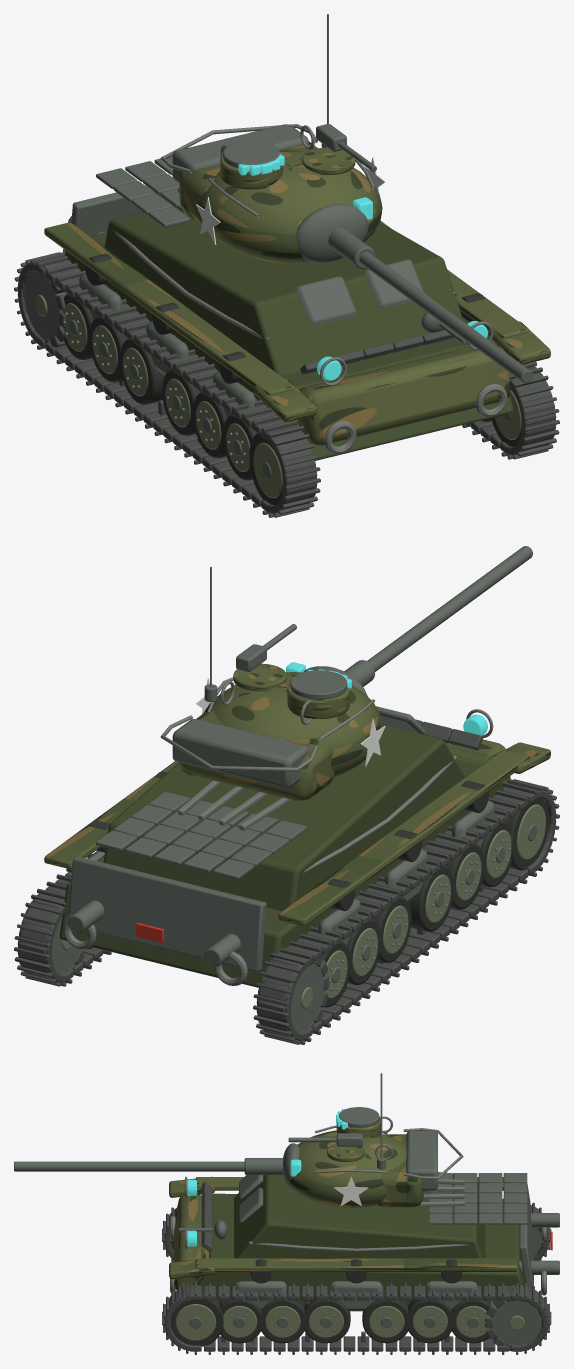
Rendered from sherman.glb.
3 renders of one model, top to bottom at view 1: azimuth 30°, elevation 25°; view 2: azimuth 150°, elevation 25°; view 3: azimuth 270°, elevation 25°, orthographic. The views are drawn at different scales.
Visible parts, largest first — view 1: Batch_HullVisual_1_sherman_Camouflage, Batch_HullVisual_2_sherman_Camouflage, Batch_HullVisual_5_TrackSteel, Batch_TurretPivot_3_sherman_Camouflage, Batch_HullVisual_2_sherman_DarkArmor, Batch_GunTube_3_sherman_DarkArmor, Batch_HullVisual_6_sherman_DarkArmor, GunMantlet, TurretRearStowage, Batch_HullVisual_4_sherman_DarkArmor, Batch_TurretPivot_7_sherman_Camouflage, Batch_TurretPivot_7_sherman_DarkArmor (+23 smaller); view 2: Batch_HullVisual_1_sherman_Camouflage, Batch_HullVisual_5_TrackSteel, Batch_HullVisual_2_sherman_DarkArmor, Batch_HullVisual_6_sherman_DarkArmor, Batch_HullVisual_2_sherman_Camouflage, Batch_TurretPivot_3_sherman_Camouflage, TurretRearStowage, Batch_GunTube_3_sherman_DarkArmor, Batch_HullVisual_8_Fasteners, Batch_TurretPivot_7_sherman_DarkArmor, Batch_HullVisual_4_sherman_DarkArmor, Batch_TurretPivot_7_sherman_Camouflage (+23 smaller); view 3: Batch_HullVisual_1_sherman_Camouflage, Batch_HullVisual_5_TrackSteel, Batch_HullVisual_2_sherman_Camouflage, Batch_TurretPivot_3_sherman_Camouflage, Batch_HullVisual_6_sherman_DarkArmor, Batch_GunTube_3_sherman_DarkArmor, Batch_HullVisual_4_sherman_DarkArmor, Batch_HullVisual_2_sherman_DarkArmor, TurretRearStowage, Batch_HullVisual_8_Fasteners, Sprocket_R, Batch_TurretPivot_7_sherman_DarkArmor (+23 smaller).
Part boxes in pixels (x1,y1,x2,y2): Batch_HullVisual_1_sherman_Camouflage: [64, 205, 513, 460]; Batch_HullVisual_2_sherman_Camouflage: [44, 221, 550, 445]; Batch_HullVisual_5_TrackSteel: [14, 252, 559, 517]; Batch_TurretPivot_3_sherman_Camouflage: [179, 141, 382, 263]; Batch_HullVisual_2_sherman_DarkArmor: [71, 185, 467, 344]; Batch_GunTube_3_sherman_DarkArmor: [328, 227, 532, 382]; Batch_HullVisual_6_sherman_DarkArmor: [68, 156, 189, 234]; GunMantlet: [296, 204, 368, 262]; TurretRearStowage: [172, 124, 308, 183]; Batch_HullVisual_4_sherman_DarkArmor: [79, 273, 488, 418]; Batch_TurretPivot_7_sherman_Camouflage: [220, 147, 355, 189]; Batch_TurretPivot_7_sherman_DarkArmor: [223, 124, 376, 171]; Batch_HullVisual_1_sherman_Camouflage: [59, 724, 503, 987]; Batch_HullVisual_5_TrackSteel: [14, 779, 559, 1044]; Batch_HullVisual_2_sherman_DarkArmor: [68, 706, 424, 971]; Batch_HullVisual_6_sherman_DarkArmor: [68, 791, 306, 966]; Batch_HullVisual_2_sherman_Camouflage: [44, 739, 550, 925]; Batch_TurretPivot_3_sherman_Camouflage: [179, 672, 382, 800]; TurretRearStowage: [172, 719, 308, 788]; Batch_GunTube_3_sherman_DarkArmor: [344, 546, 532, 686]; Batch_HullVisual_8_Fasteners: [178, 755, 456, 872]; Batch_TurretPivot_7_sherman_DarkArmor: [204, 624, 347, 701]; Batch_HullVisual_4_sherman_DarkArmor: [87, 800, 494, 945]; Batch_TurretPivot_7_sherman_Camouflage: [233, 663, 349, 719]; Batch_HullVisual_1_sherman_Camouflage: [197, 1172, 524, 1305]; Batch_HullVisual_5_TrackSteel: [162, 1198, 551, 1354]; Batch_HullVisual_2_sherman_Camouflage: [169, 1176, 517, 1290]; Batch_TurretPivot_3_sherman_Camouflage: [290, 1130, 423, 1208]; Batch_HullVisual_6_sherman_DarkArmor: [429, 1173, 559, 1274]; Batch_GunTube_3_sherman_DarkArmor: [14, 1158, 283, 1174]; Batch_HullVisual_4_sherman_DarkArmor: [235, 1281, 477, 1311]; Batch_HullVisual_2_sherman_DarkArmor: [178, 1175, 533, 1288]; TurretRearStowage: [406, 1130, 437, 1190]; Batch_HullVisual_8_Fasteners: [249, 1179, 469, 1251]; Sprocket_R: [491, 1300, 541, 1345]; Batch_TurretPivot_7_sherman_DarkArmor: [288, 1107, 385, 1169].
Size of the model in its own units: 3.42 by 4.27 by 8.31.
9 materials, 1 textured.
